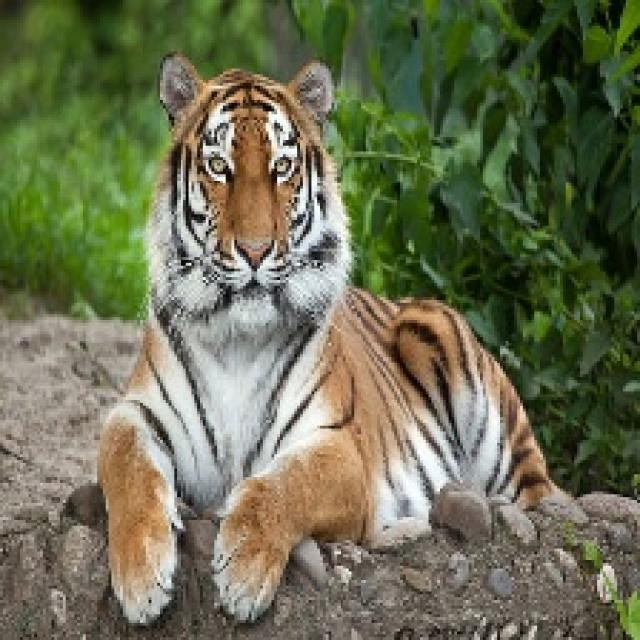animal: (135, 62, 584, 613)
